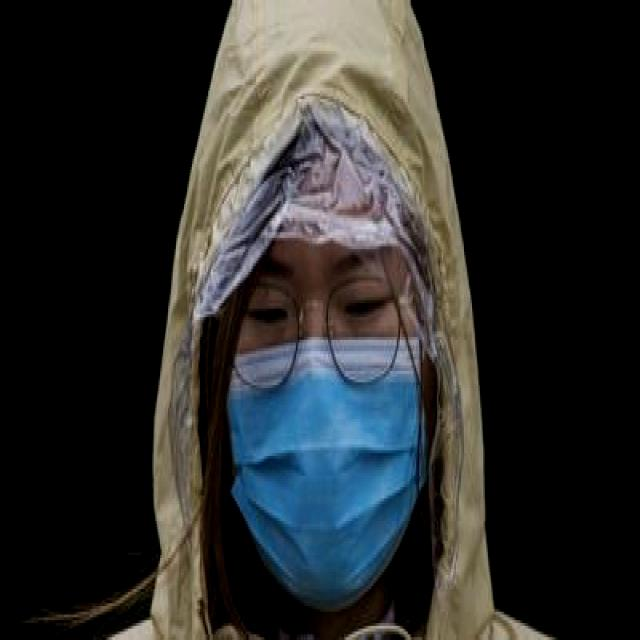face_mask: (227, 241, 432, 609)
glasses: (220, 266, 414, 397)
head_nohelmet: (186, 53, 447, 274)
